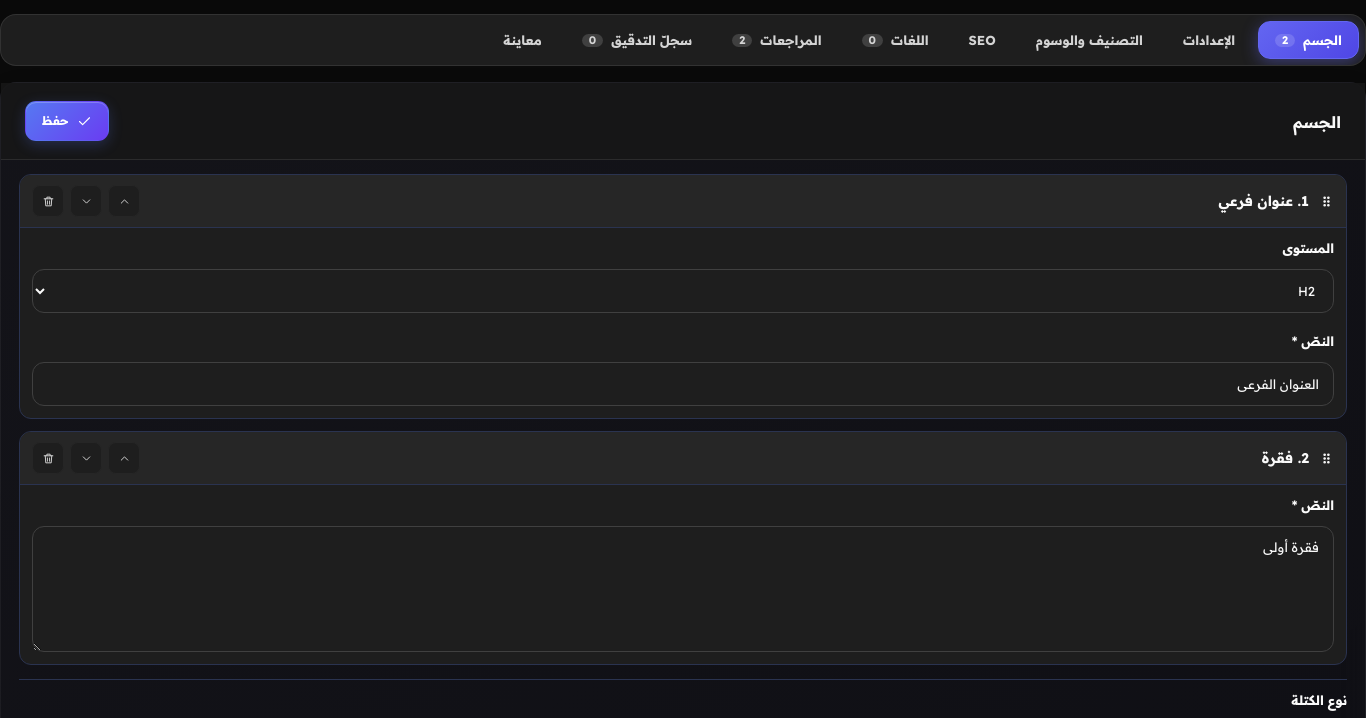
Test: BlogPostEditor › autosave stops while a block is invalid, and says so
(page scrolled)
Clear the field showing "العنوان الفرعي": {"x": 683, "y": 384} [32,362,1334,406]
(page scrolled)
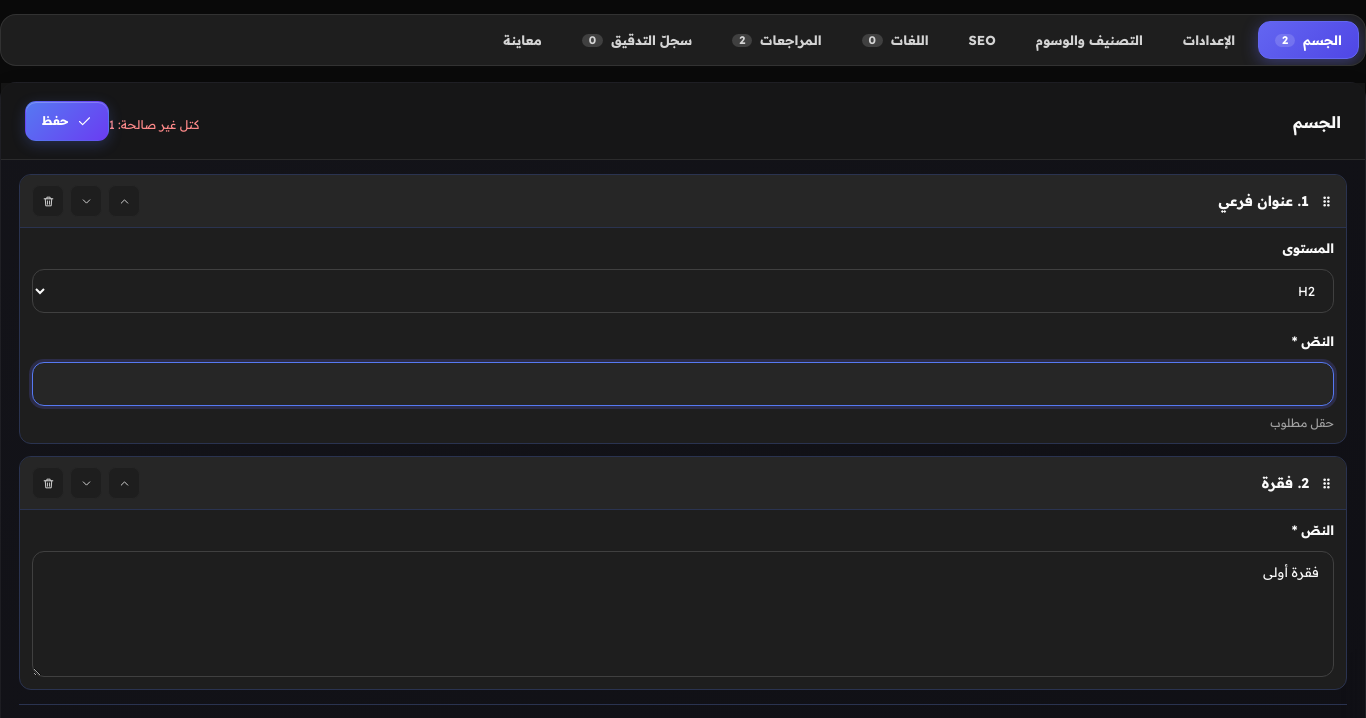
Expected: the text "كتل غير صالحة: 1" is shown, [109,117,199,132]
